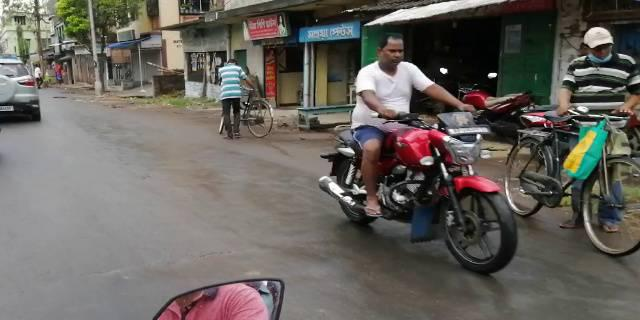Car: (1, 59, 44, 129)
Cycle: (501, 89, 640, 259), (215, 88, 280, 139)
Motorbike: (314, 27, 521, 282)
